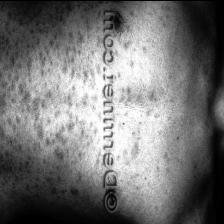Non-Cancerous Skin Condition: (7, 24, 102, 192)
